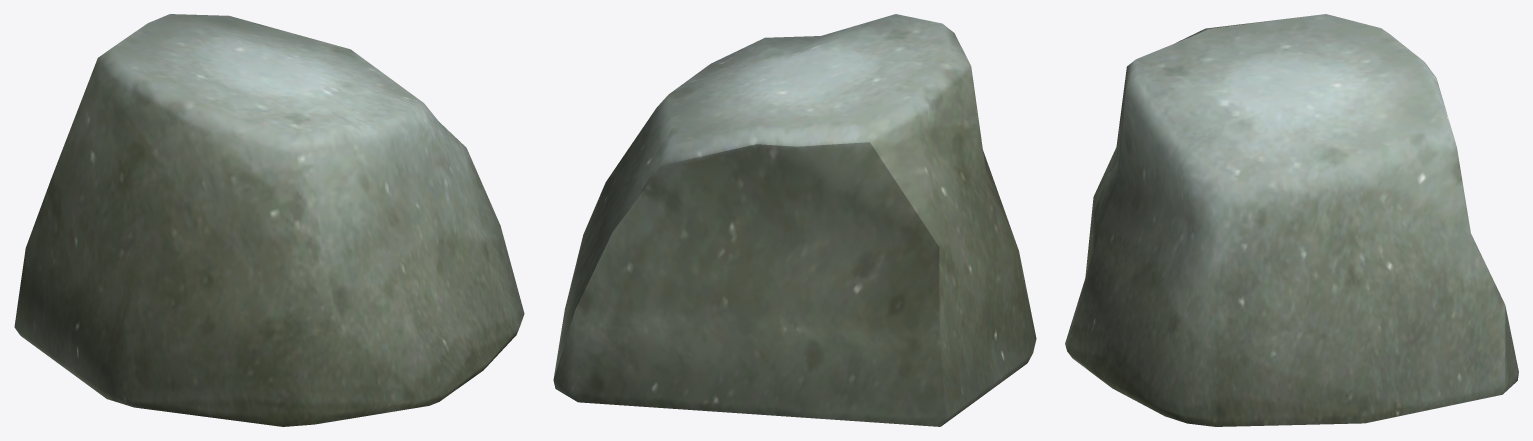
File: stoneD.glb
The picture shows the model from 3 angles, left to right: view 1: azimuth 30°, elevation 25°; view 2: azimuth 150°, elevation 25°; view 3: azimuth 270°, elevation 25°; orthographic projection. The views are drawn at different scales.
Visible parts, largest first — view 1: stoneD__mStoneD; view 2: stoneD__mStoneD; view 3: stoneD__mStoneD.
Boxes of the visible parts, box(x1,y1,x2,y2) form: stoneD__mStoneD: box(14, 14, 524, 426); stoneD__mStoneD: box(553, 14, 1036, 426); stoneD__mStoneD: box(1065, 14, 1518, 426).
Bounding box in the file's own units: 9.44 × 6.28 × 9.83.
Materials: 1 (1 with a texture image).
